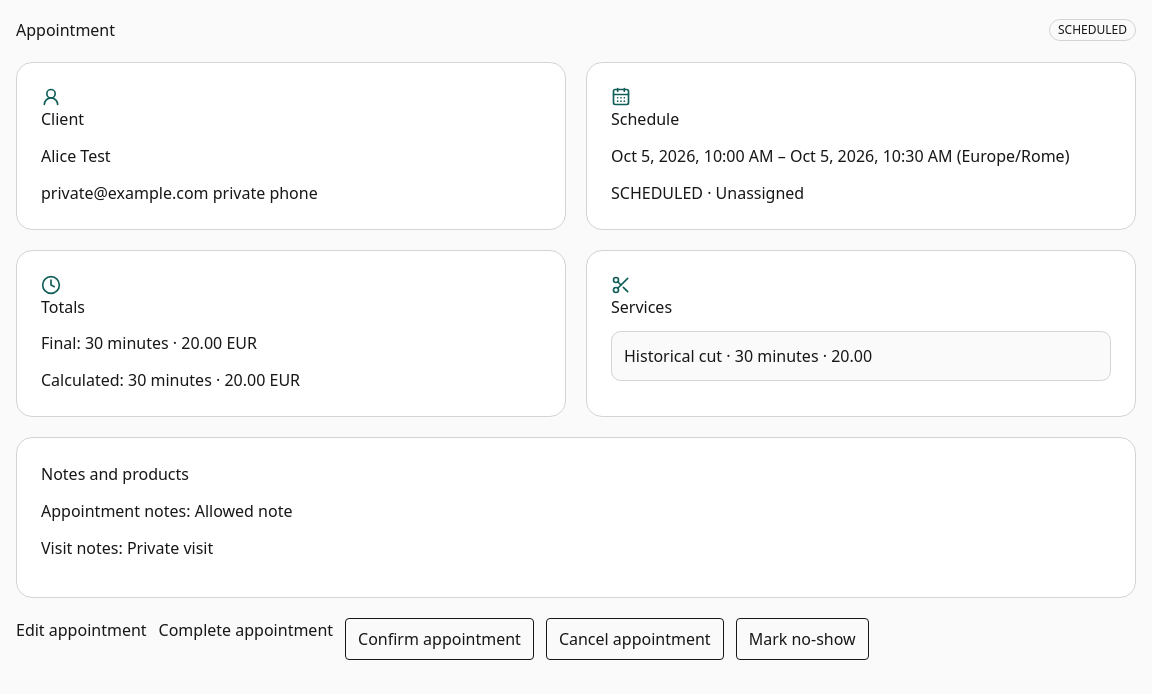
cancel requires deliberate second action and invalidates detail
Click the button "Cancel appointment".
click(635, 639)  # box [546,618,724,660]
(page scrolled)
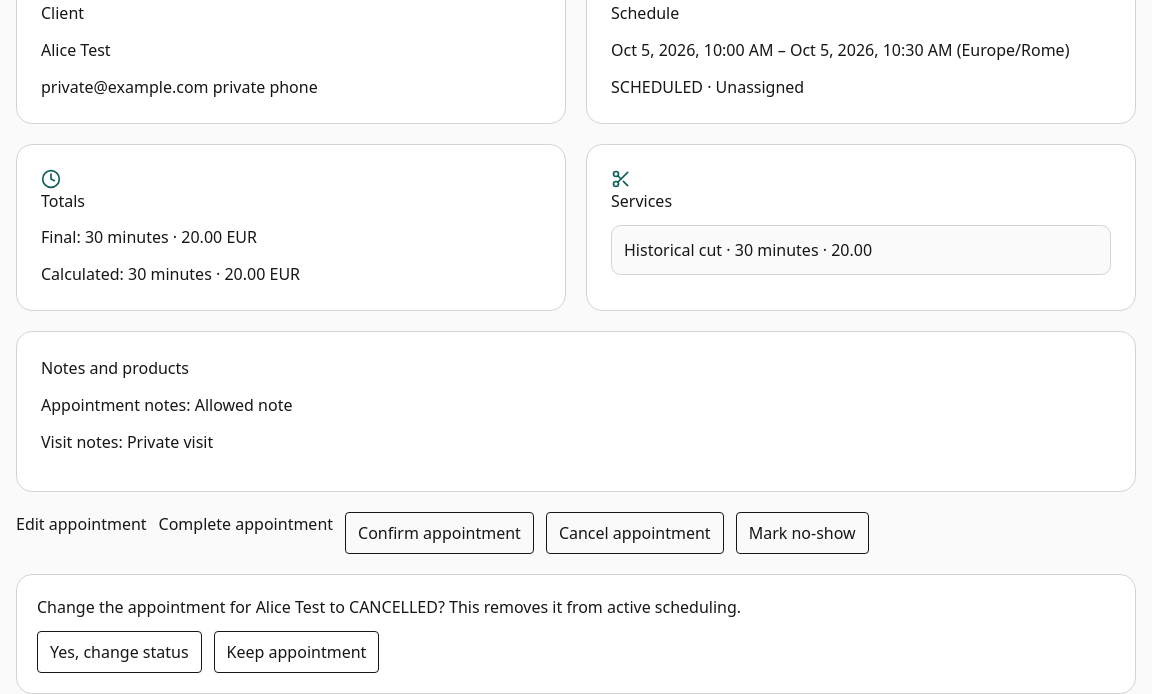
Click the button "Yes, change status".
click(119, 652)  # box [37,631,202,673]
(page scrolled)
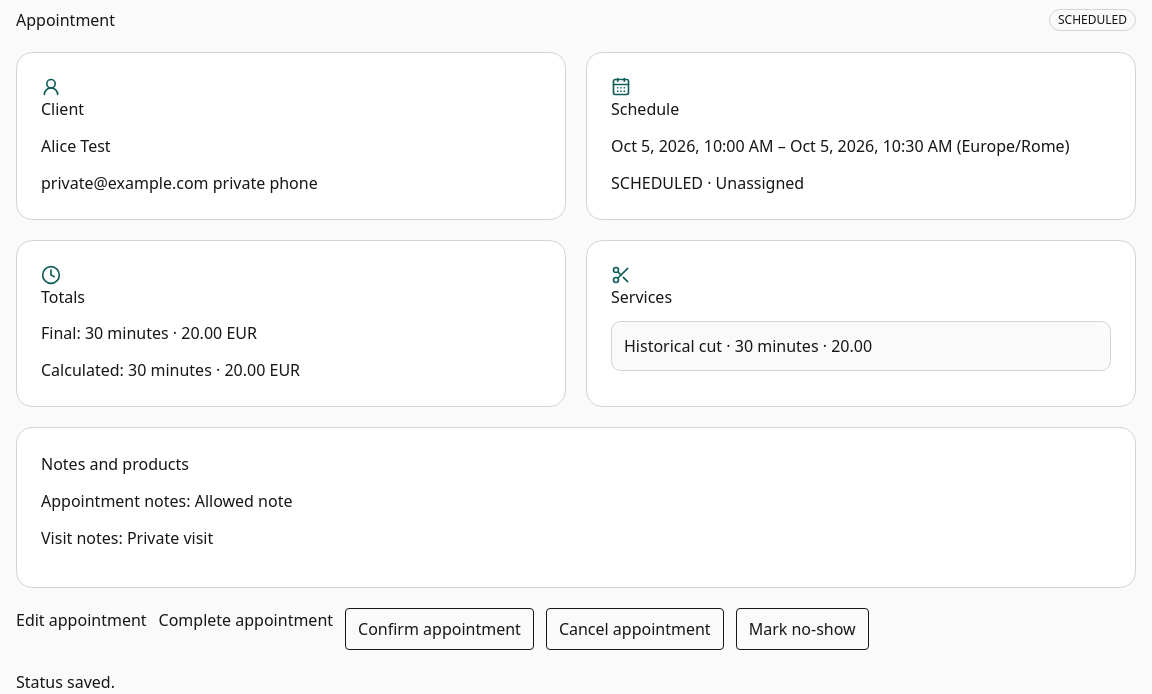
Now the text "Status saved." is shown, box [16,671,115,693]
